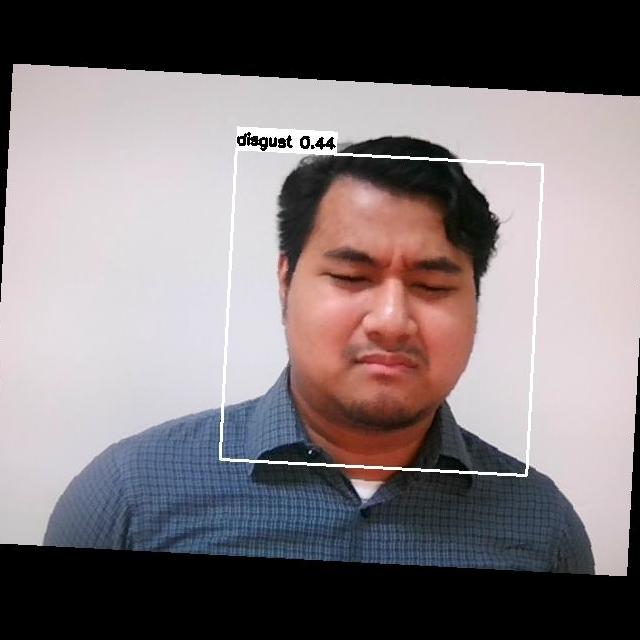Disgust: (290, 215, 481, 401)
